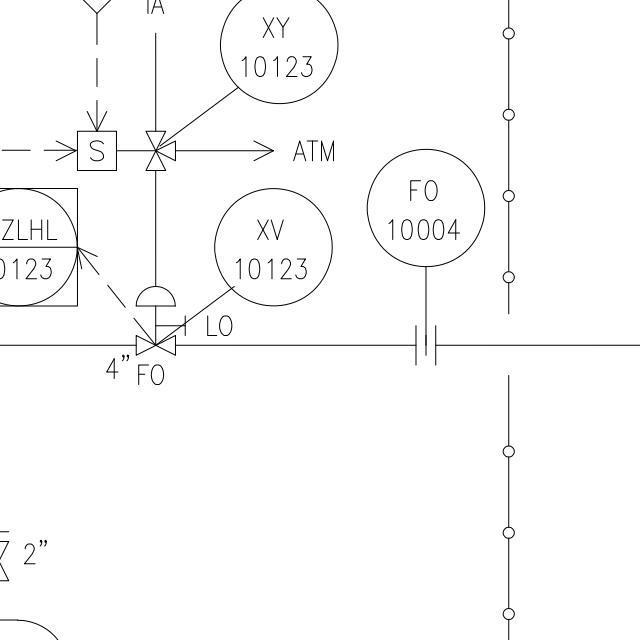3W: (145, 125, 180, 181)
FC: (130, 279, 180, 360)
